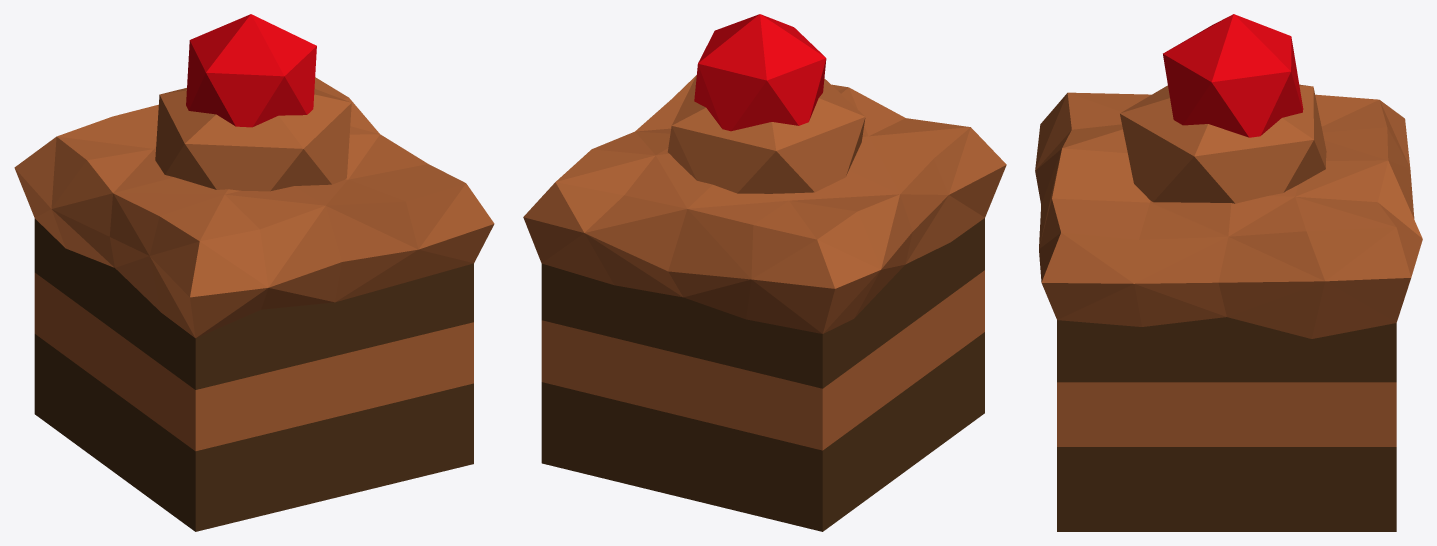
File: cake_choco.fbx
3 renders of one model, left to right at view 1: azimuth 30°, elevation 25°; view 2: azimuth 150°, elevation 25°; view 3: azimuth 270°, elevation 25°, orthographic. The views are drawn at different scales.
Parts seen in each view (by area): view 1: cake_choco; view 2: cake_choco; view 3: cake_choco.
Boxes of the visible parts, left/top/right/bottom form: cake_choco: left=14, top=14, right=494, bottom=531; cake_choco: left=523, top=14, right=1006, bottom=531; cake_choco: left=1035, top=14, right=1422, bottom=531.
Size of the model in its own units: 6.45 by 8.32 by 6.55.
